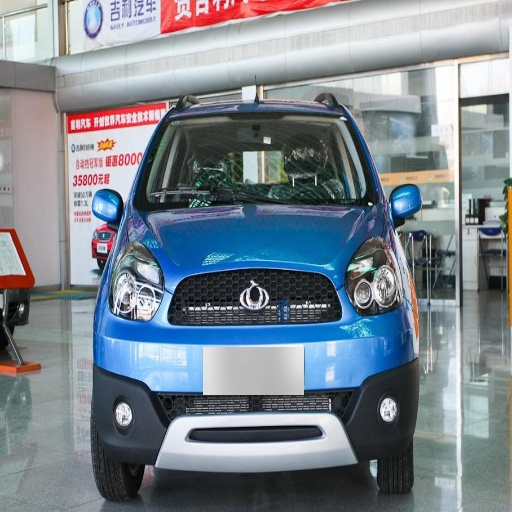front_bumper: (100, 271, 421, 466)
front_right_light: (106, 249, 163, 320)
hood: (127, 202, 389, 285)
left_mirror: (391, 184, 423, 226)
